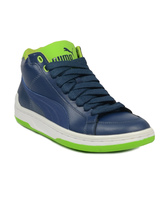shoes: (10, 39, 157, 156)
